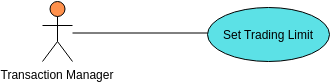actor: (42, 1, 75, 65)
association: (72, 27, 207, 40)
text: (1, 68, 117, 83), (222, 26, 315, 44)
use_case: (206, 5, 330, 64)
